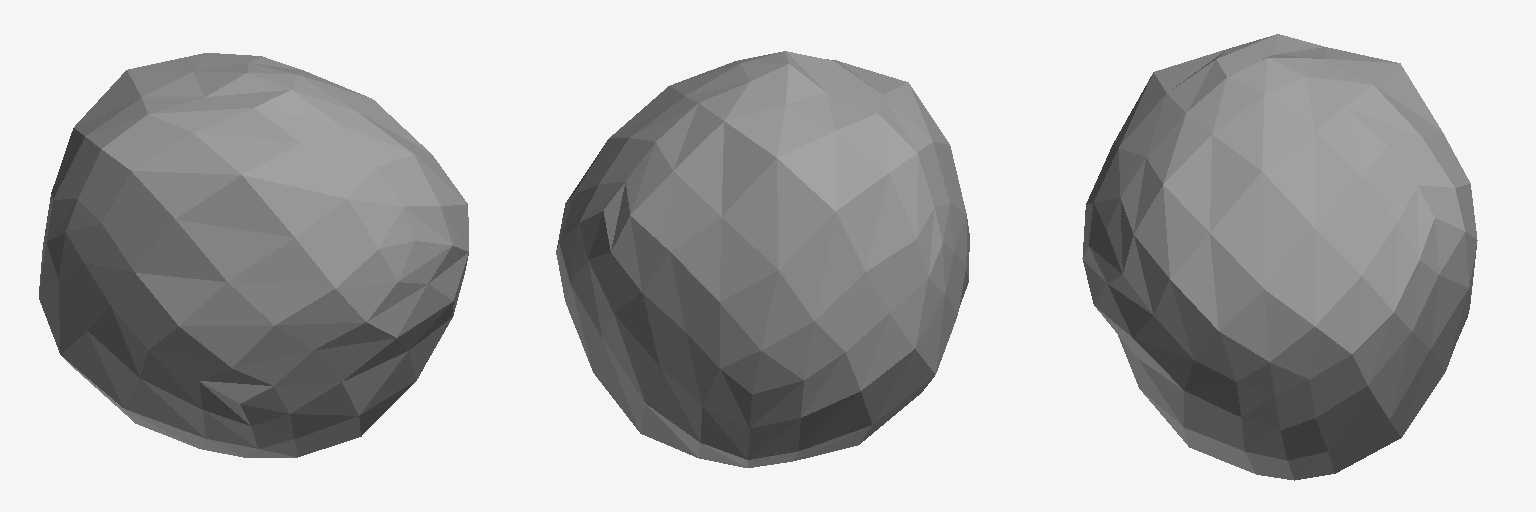
Rendered from boulder2.obj.
3 views of the same model, side by side, from view 1: azimuth 30°, elevation 25°; view 2: azimuth 150°, elevation 25°; view 3: azimuth 270°, elevation 25° (orthographic).
Parts seen in each view (by area): view 1: rockLP001.002; view 2: rockLP001.002; view 3: rockLP001.002.
Part boxes in pixels (left/top/right/bottom): rockLP001.002: left=39, top=53, right=468, bottom=457; rockLP001.002: left=556, top=51, right=969, bottom=467; rockLP001.002: left=1082, top=34, right=1477, bottom=480.
Size of the model in its own units: 17.38 by 16.97 by 15.88.